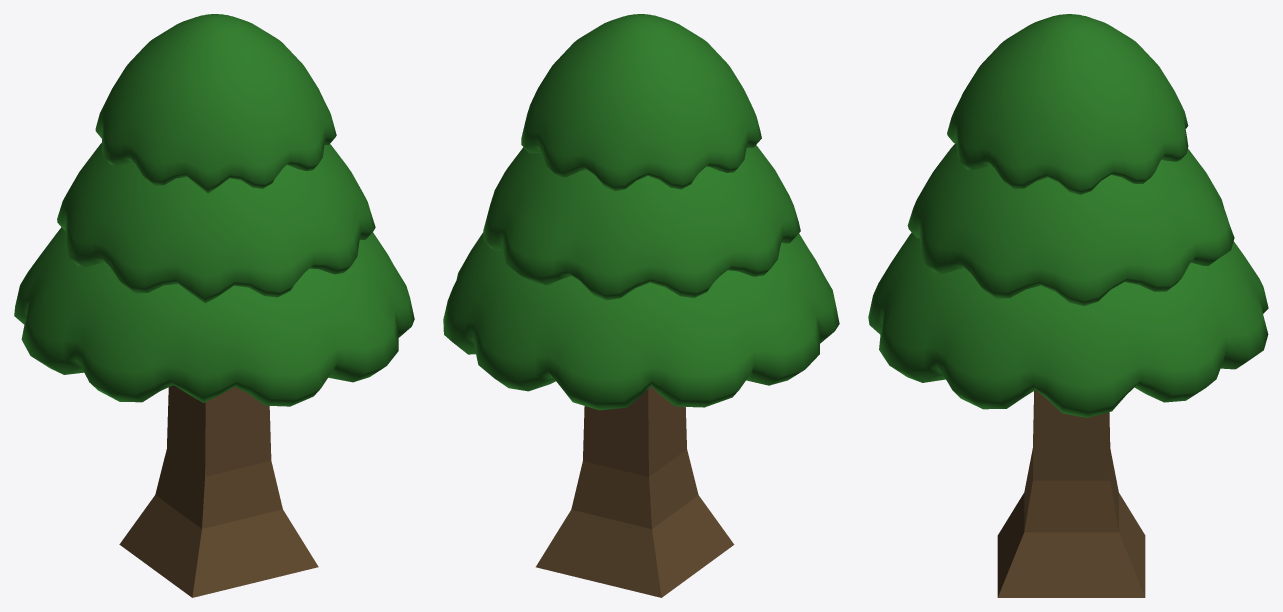
File: tree1.fbx
3 views of the same model, side by side, from view 1: azimuth 30°, elevation 25°; view 2: azimuth 150°, elevation 25°; view 3: azimuth 270°, elevation 25° (orthographic).
Visible parts, largest first — view 1: Circle.006, Circle.004, Circle.005, Cube.005; view 2: Circle.006, Circle.004, Circle.005, Cube.005; view 3: Circle.006, Circle.004, Circle.005, Cube.005.
Boxes of the visible parts, box(x1,y1,x2,y2) form: Circle.006: box(14, 227, 414, 406); Circle.004: box(57, 143, 375, 303); Circle.005: box(95, 14, 336, 193); Cube.005: box(119, 385, 318, 597); Circle.006: box(443, 232, 839, 410); Circle.004: box(483, 145, 800, 300); Circle.005: box(521, 14, 761, 191); Cube.005: box(536, 386, 734, 597); Circle.006: box(868, 232, 1268, 417); Circle.004: box(907, 143, 1234, 305); Circle.005: box(947, 14, 1188, 194); Cube.005: box(997, 390, 1145, 597).
Bounding box in the file's own units: 117 × 175 × 116.
